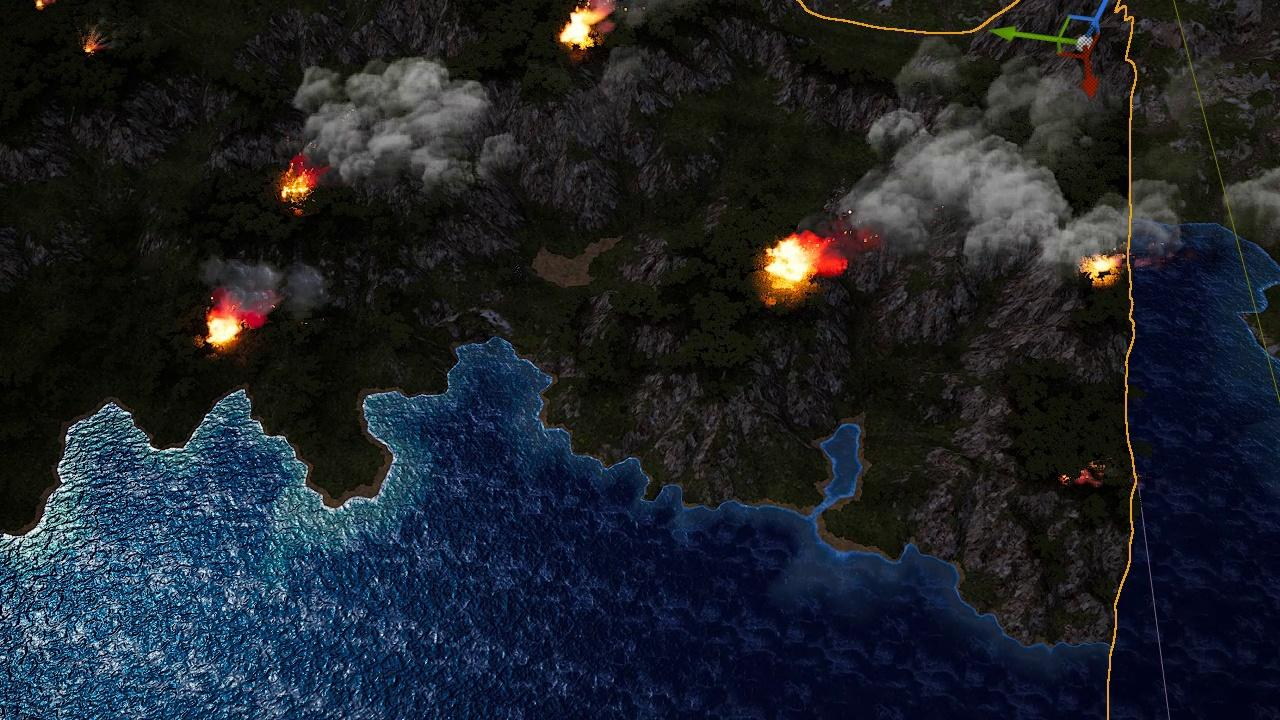fire: (761, 233, 826, 293), (204, 308, 252, 351), (560, 6, 606, 48), (278, 159, 318, 203), (1080, 252, 1120, 281), (29, 0, 53, 13), (85, 38, 102, 52)
smoke: (821, 39, 1124, 277), (288, 57, 525, 194), (202, 252, 330, 323), (1129, 179, 1182, 267)
